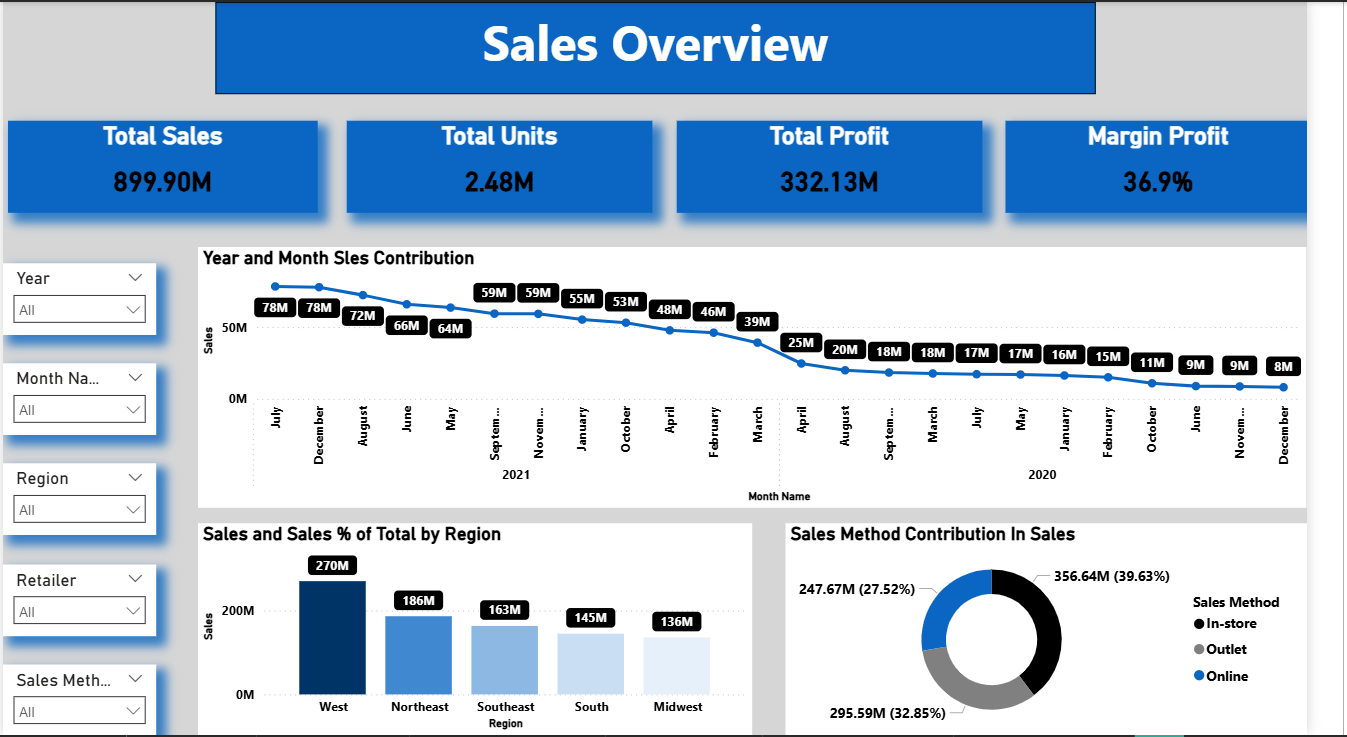

What the dashboard file says about the page in this screenshot:
{"tool":"powerbi","page":{"name":"Sales Overview","canvas":[1280,720],"ordinal":1},"visuals":[{"type":"card","title":"Total Sales","fields":{"Values":["Sales.Sales"]},"box":[4.6,116.8,304,90],"z":1000},{"type":"card","title":"Total Units","fields":{"Values":["Sales.Sold Units"]},"box":[337.9,116.8,300,90],"z":2000},{"type":"card","title":"Margin Profit","fields":{"Values":["Sales.Margin Profit"]},"box":[984.6,116.8,300,90],"z":3000},{"type":"card","title":"Total Profit","fields":{"Values":["Sales.Total Profit"]},"box":[661.3,116.8,300,90],"z":4000},{"type":"lineChart","title":"Year and Month Sles Contribution","fields":{"Y":["Sales.Sales"],"Category":["Dates.Year","Dates.Month Name"]},"box":[192,240,1088,256],"z":5000},{"type":"clusteredColumnChart","fields":{"Category":["Regions.Region"],"Y":["Sales.Sales"]},"box":[192,512,544,208],"z":7000},{"type":"donutChart","title":"Sales Method Contribution In Sales","fields":{"Category":["Sales.Sales Method"],"Y":["Sales.Sales"]},"box":[768,512,512,208],"z":8000},{"type":"slicer","fields":{"Values":["Dates.Year"]},"box":[0,256,150,70],"z":9000},{"type":"slicer","fields":{"Values":["Regions.Region"]},"box":[0,453.2,150,70],"z":10000},{"type":"slicer","fields":{"Values":["Sales.Sales Method"]},"box":[0,650,150,70],"z":11000},{"type":"slicer","fields":{"Values":["Retailers.Retailer"]},"box":[0,551.7,150,70],"z":12000},{"type":"textbox","box":[208,0,864,90],"z":12001},{"type":"slicer","fields":{"Values":["Dates.Month Name"]},"box":[0,354.6,150,70],"z":12002}]}

Visuals, with their boxes in screenshot pixels (x1, y1, x2, y2), scaled from the page's 1280x720 canvas onto the 1347x737 screenshot:
"Total Sales" card: left=5, top=120, right=325, bottom=212
"Total Units" card: left=356, top=120, right=671, bottom=212
"Margin Profit" card: left=1036, top=120, right=1346, bottom=212
"Total Profit" card: left=696, top=120, right=1012, bottom=212
"Year and Month Sles Contribution" lineChart: left=202, top=246, right=1346, bottom=508
clusteredColumnChart - Regions.Region x Sales.Sales: left=202, top=524, right=775, bottom=736
"Sales Method Contribution In Sales" donutChart: left=808, top=524, right=1346, bottom=736
slicer - Dates.Year: left=0, top=262, right=158, bottom=334
slicer - Regions.Region: left=0, top=464, right=158, bottom=536
slicer - Sales.Sales Method: left=0, top=665, right=158, bottom=736
slicer - Retailers.Retailer: left=0, top=565, right=158, bottom=636
textbox: left=219, top=0, right=1128, bottom=92
slicer - Dates.Month Name: left=0, top=363, right=158, bottom=435
